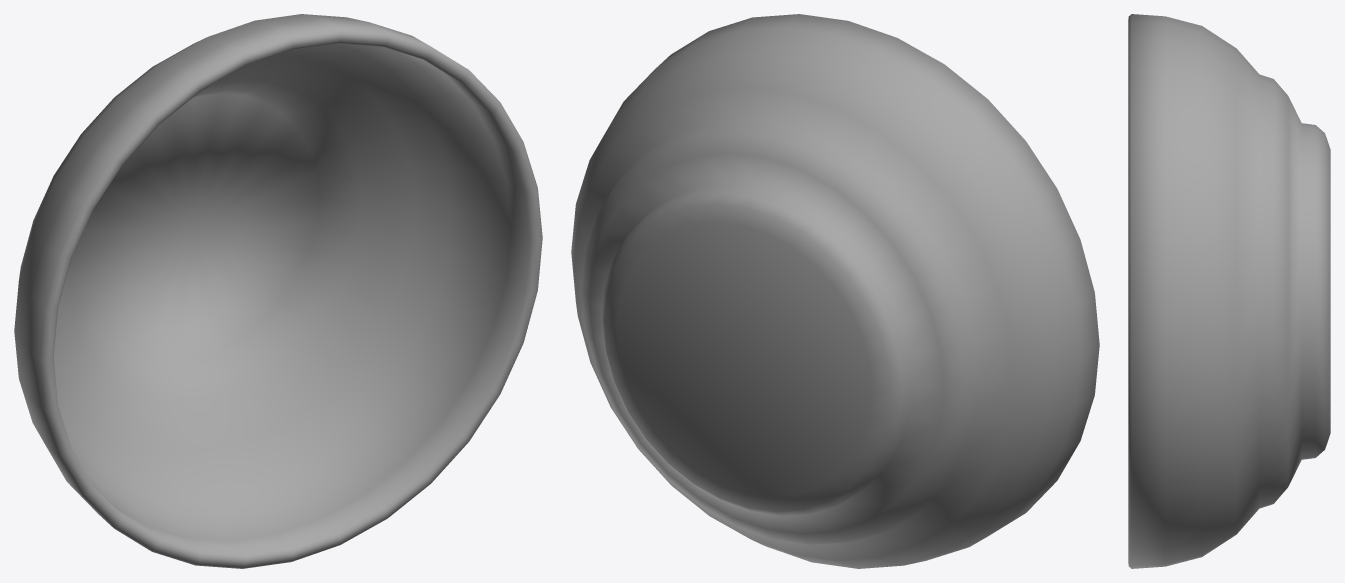
The model's file is MeshBowl_11_0_GeomSubset_0.obj.
3 renders of one model, left to right at view 1: azimuth 30°, elevation 25°; view 2: azimuth 150°, elevation 25°; view 3: azimuth 270°, elevation 25°, orthographic. The views are drawn at different scales.
Parts seen in each view (by area): view 1: MeshBowl_11_0_GeomSubset_0; view 2: MeshBowl_11_0_GeomSubset_0; view 3: MeshBowl_11_0_GeomSubset_0.
Part boxes in pixels (x1=…): MeshBowl_11_0_GeomSubset_0: x1=14, y1=14, x2=542, y2=568; MeshBowl_11_0_GeomSubset_0: x1=571, y1=14, x2=1099, y2=568; MeshBowl_11_0_GeomSubset_0: x1=1128, y1=14, x2=1330, y2=568.
Bounding box in the file's own units: 0.1948 × 0.1948 × 0.071.
